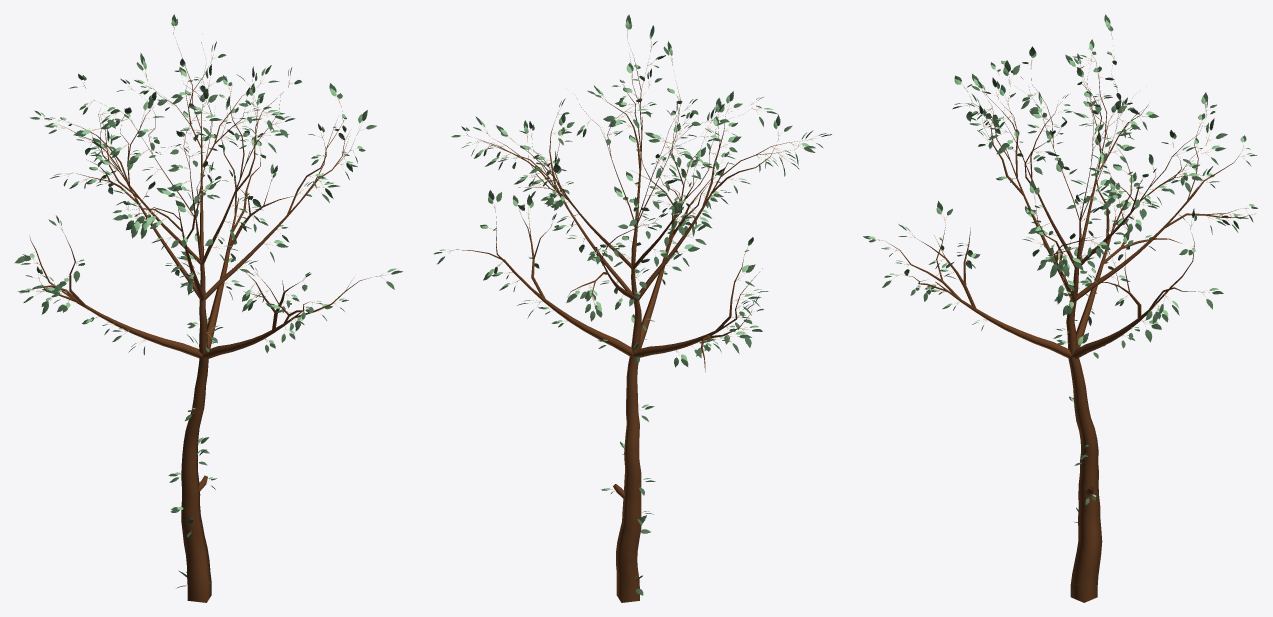
The model's file is Tree32.fbx.
The picture shows the model from 3 angles, left to right: view 1: azimuth 30°, elevation 25°; view 2: azimuth 150°, elevation 25°; view 3: azimuth 270°, elevation 25°; orthographic projection. The views are drawn at different scales.
Visible parts, largest first — view 1: Árbol.002; view 2: Árbol.002; view 3: Árbol.002.
Boxes of the visible parts, x1=… form: Árbol.002: x1=20, y1=42, x2=371, y2=602; Árbol.002: x1=456, y1=43, x2=802, y2=602; Árbol.002: x1=885, y1=45, x2=1255, y2=602.
Bounding box in the file's own units: 1015 × 1639 × 1081.
